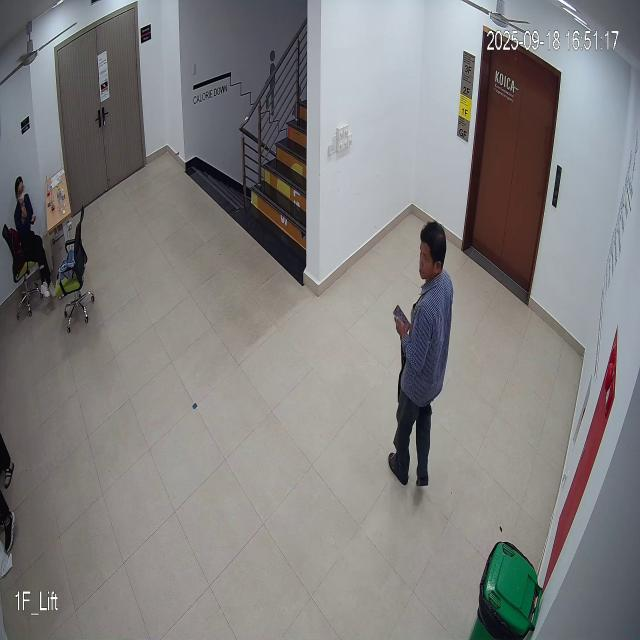face: (416, 218, 448, 286)
